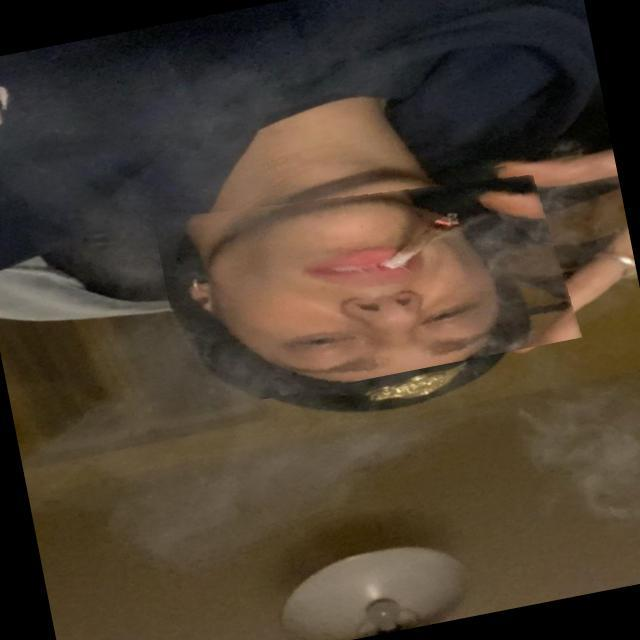cigarette: (367, 162, 521, 269)
